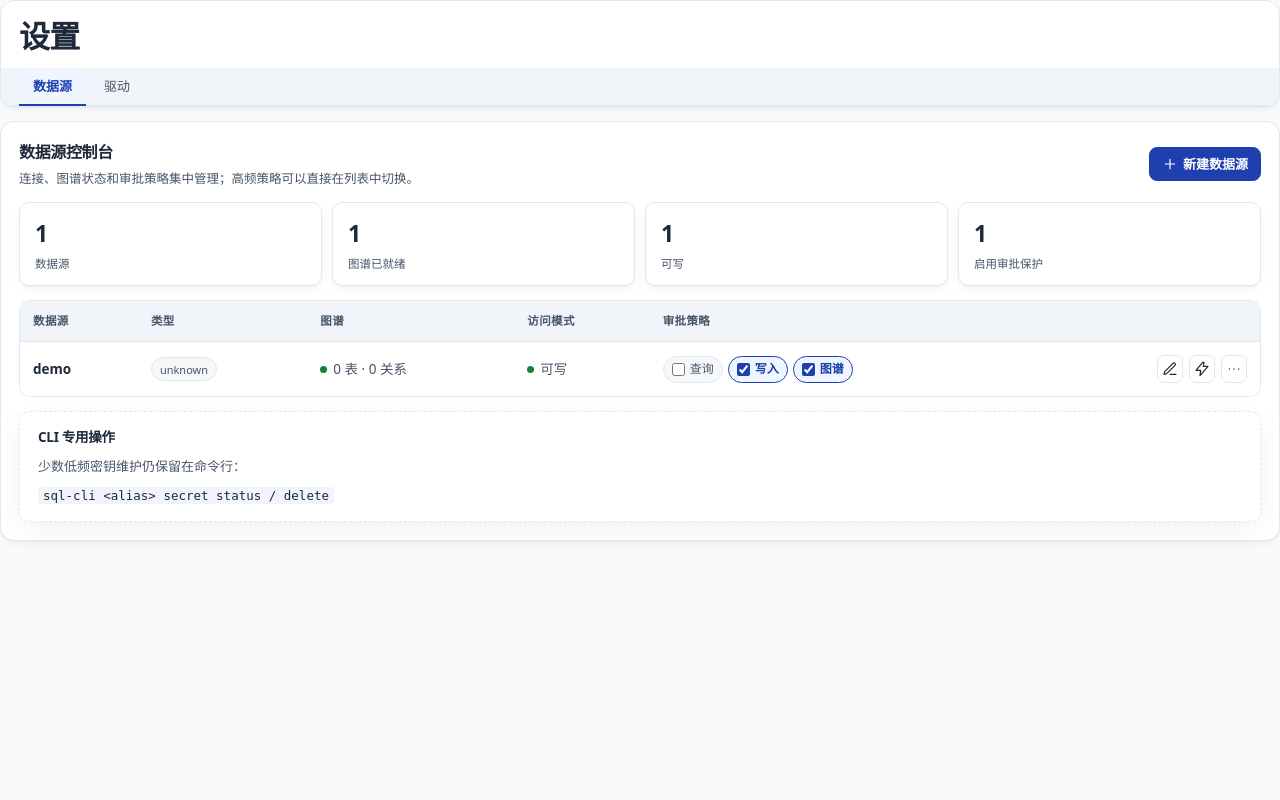
关闭审批先确认，取消不发请求，确认后才保存
Click the checkbox labelled "写入" at (743, 369), box [737,363,750,376]
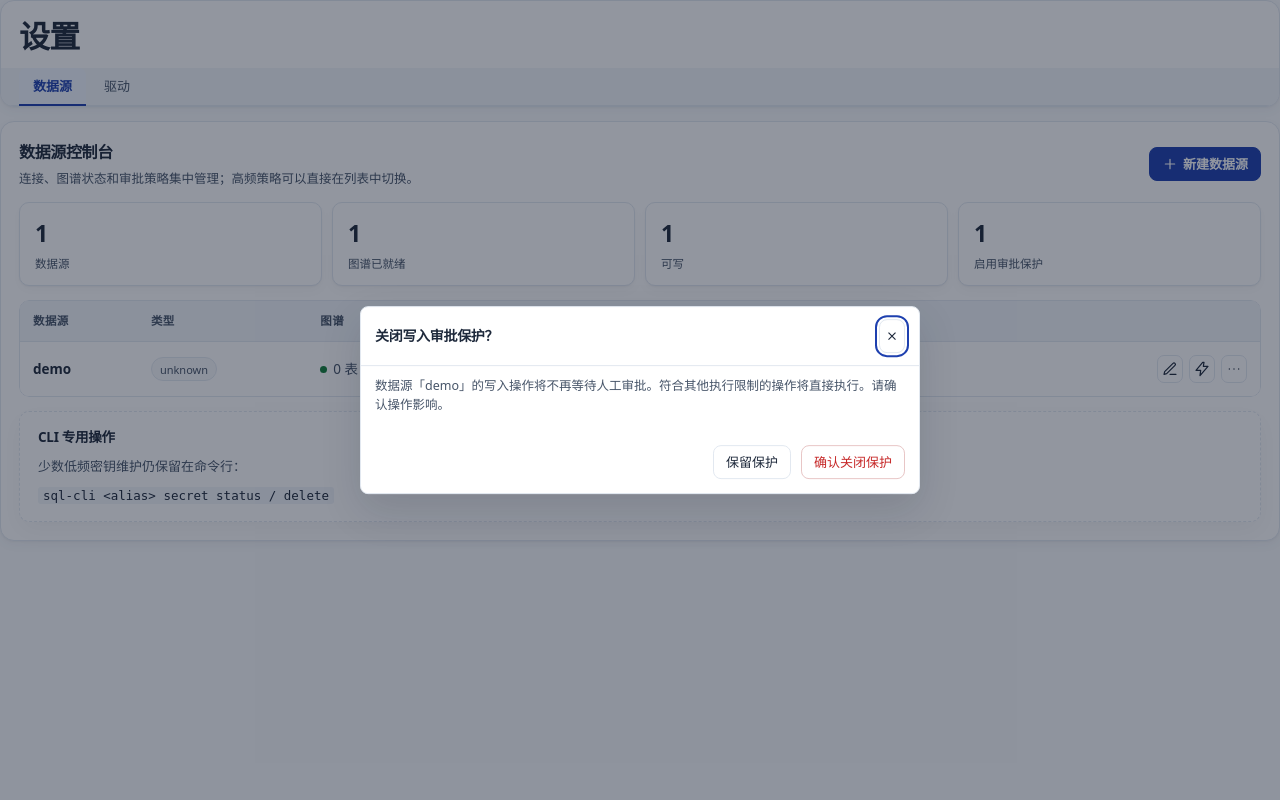
Expected: the dialog shows "数据源「demo」", [375,377,896,414]
Click the button "保留保护" at (752, 462), box [713,445,791,479]
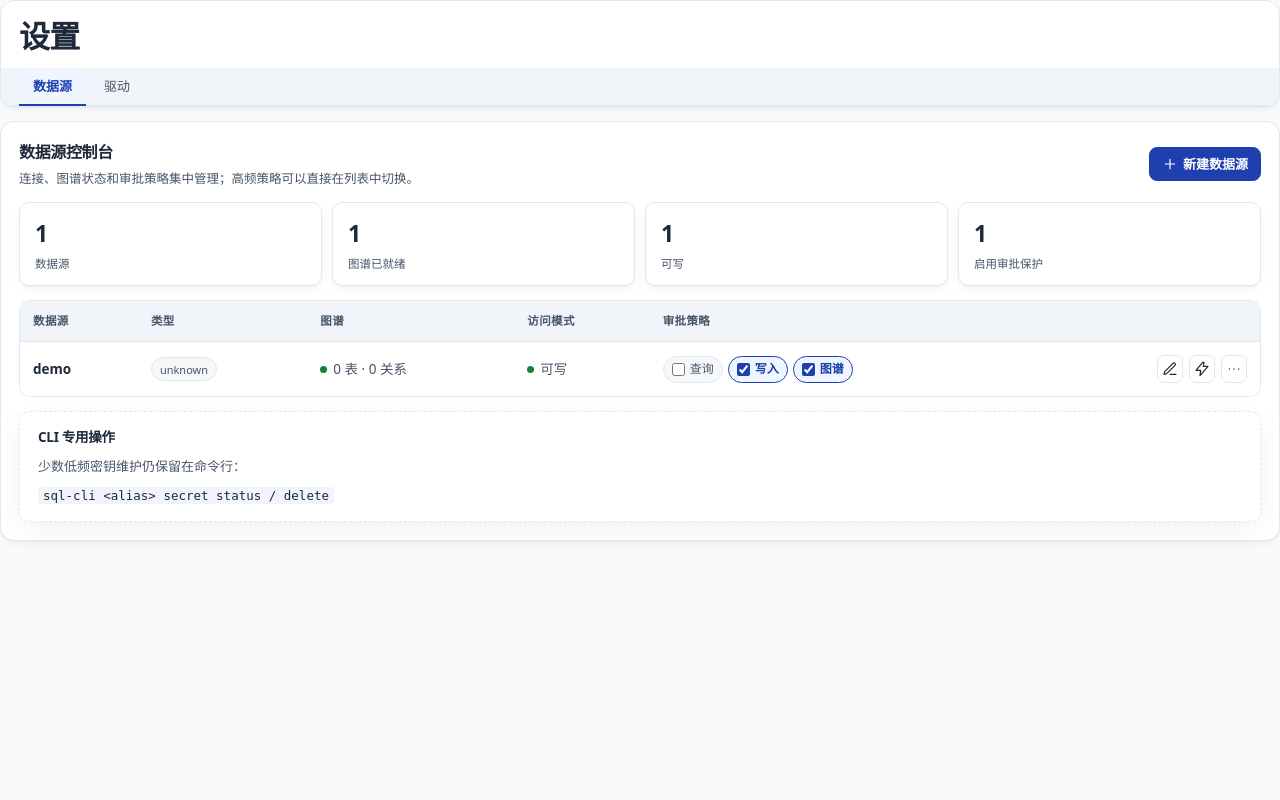
Click the checkbox labelled "写入" at (743, 369), box [737,363,750,376]
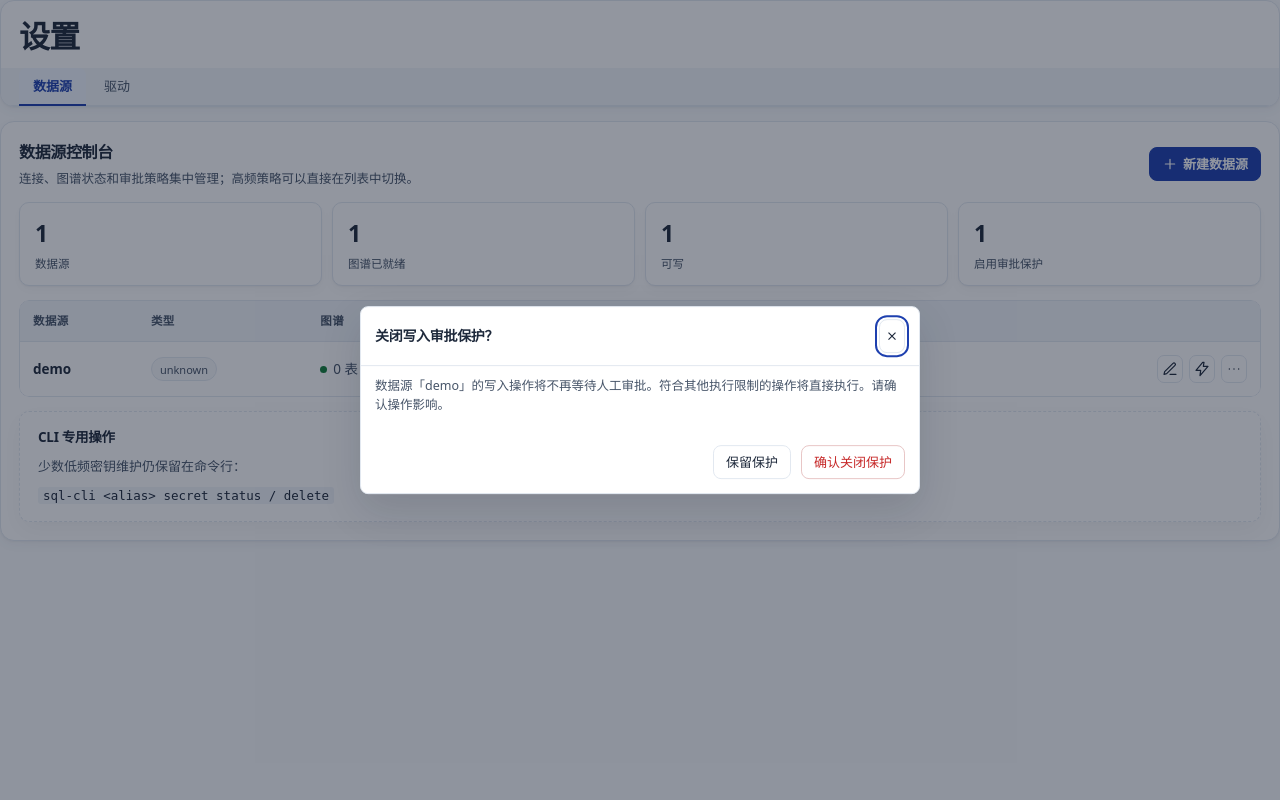
Click the button "确认关闭保护" at (853, 462), box [801,445,905,479]
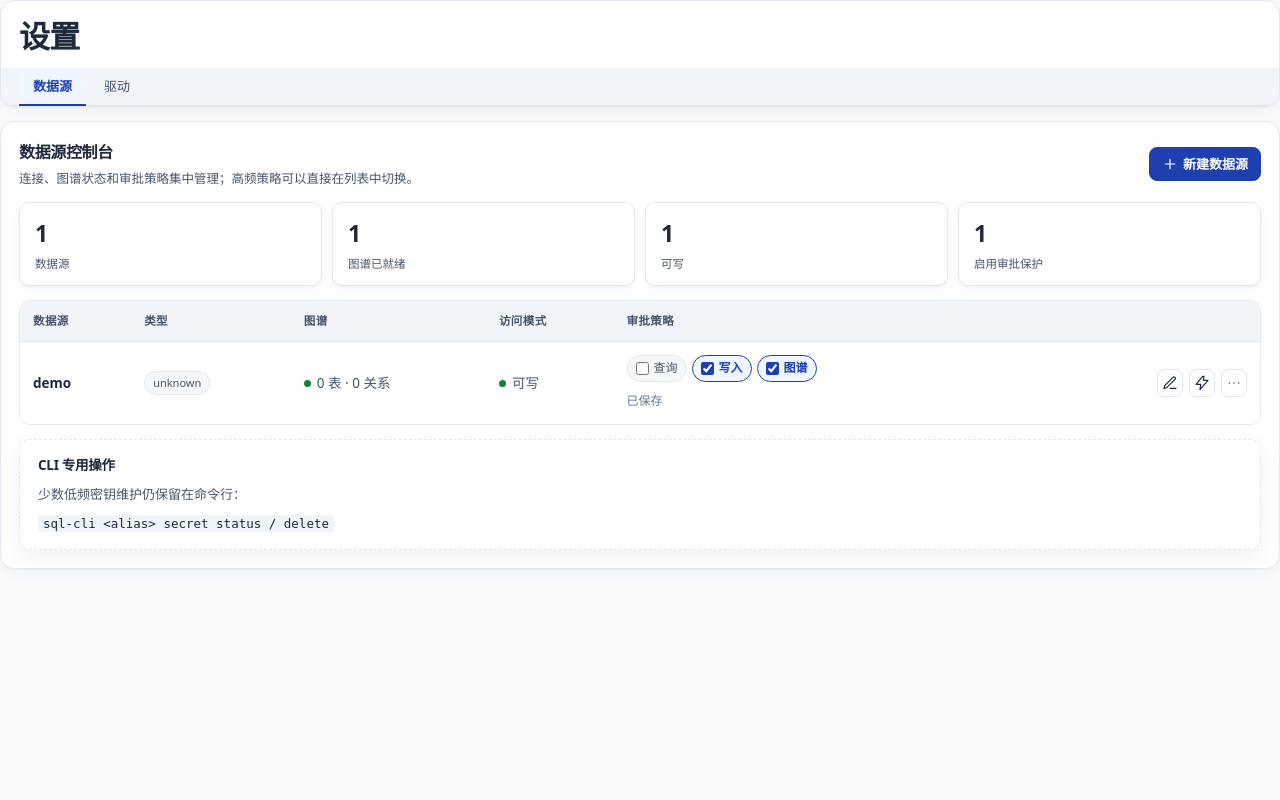
Expected: the text "已保存" is shown, [626,392,662,409]
